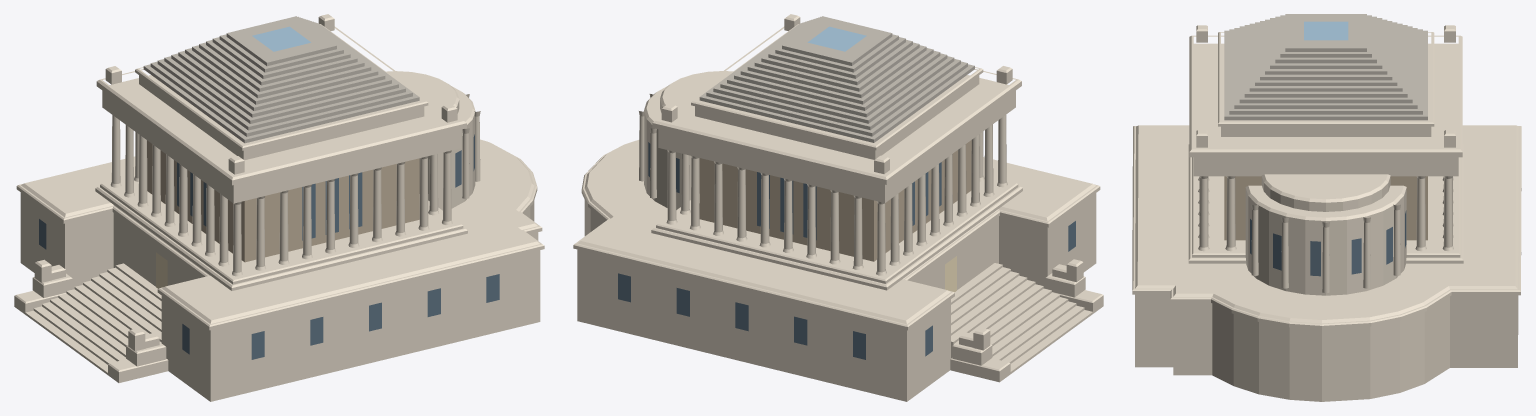
3 views of the same model, side by side, from view 1: azimuth 30°, elevation 25°; view 2: azimuth 150°, elevation 25°; view 3: azimuth 270°, elevation 25° (orthographic).
Visible parts, largest first — view 1: house-of-the-temple; view 2: house-of-the-temple; view 3: house-of-the-temple.
Part boxes in pixels (x1,y1,x2,y2): house-of-the-temple: (14, 14, 544, 401); house-of-the-temple: (573, 14, 1103, 401); house-of-the-temple: (1132, 14, 1521, 401).
Bounding box in the file's own units: 62.05 × 33.21 × 45.9.
